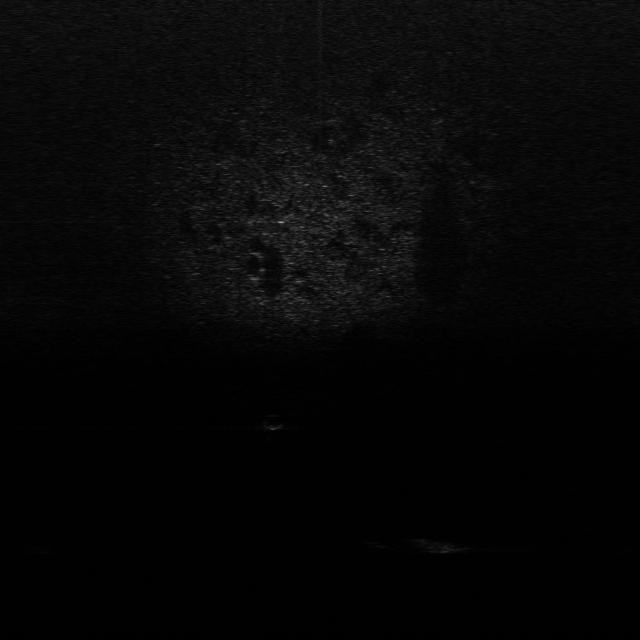ball: (262, 411, 286, 431)
metal bucket: (412, 527, 478, 558)
